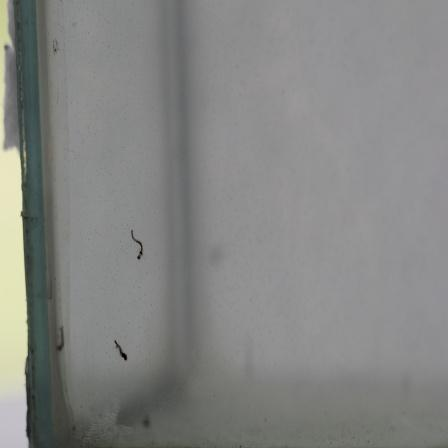Jentik-Nyamuk: (127, 224, 147, 264), (111, 337, 132, 364), (53, 322, 68, 353)
